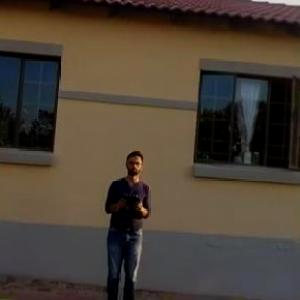follow: (99, 147, 155, 299)
